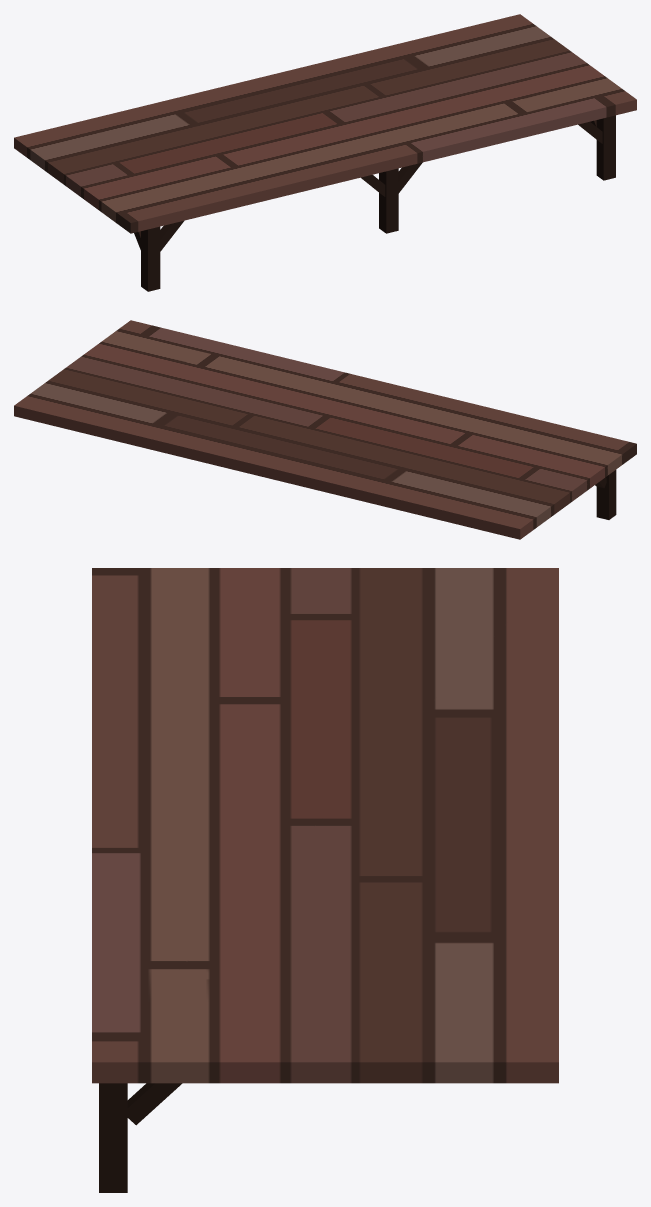
The model's file is Deck 5M v01.glb.
3 renders of one model, top to bottom at view 1: azimuth 30°, elevation 25°; view 2: azimuth 150°, elevation 25°; view 3: azimuth 270°, elevation 25°, orthographic. The views are drawn at different scales.
Visible parts, largest first — view 1: Deck 5M v01; view 2: Deck 5M v01; view 3: Deck 5M v01.
Boxes of the visible parts, box(x1,y1,x2,y2) form: Deck 5M v01: box(14, 14, 636, 291); Deck 5M v01: box(14, 320, 636, 539); Deck 5M v01: box(92, 568, 558, 1192).
Size of what is drawn, in the model's own units: 5 by 0.7053 by 2.
2 materials, 2 textured.
